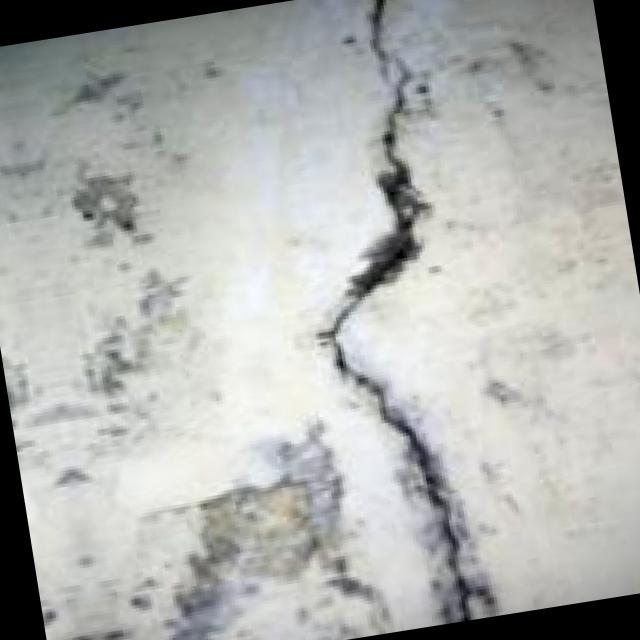crack: (238, 0, 556, 638)
